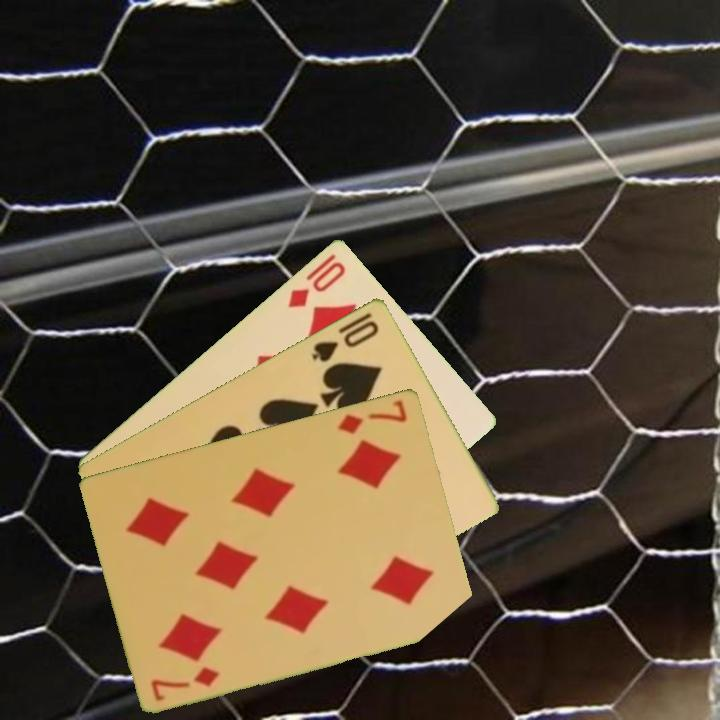10d: (284, 257, 349, 311)
10s: (308, 316, 382, 364)
7d: (333, 395, 411, 437), (147, 662, 223, 704)
